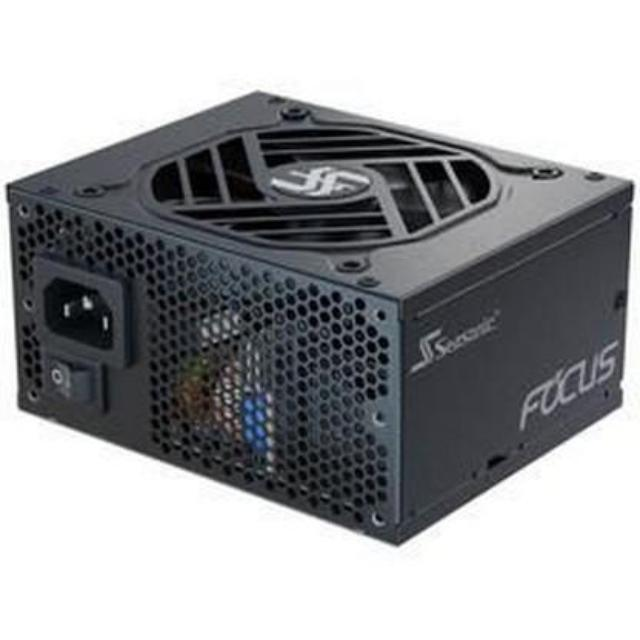PSU: (0, 80, 640, 554)
